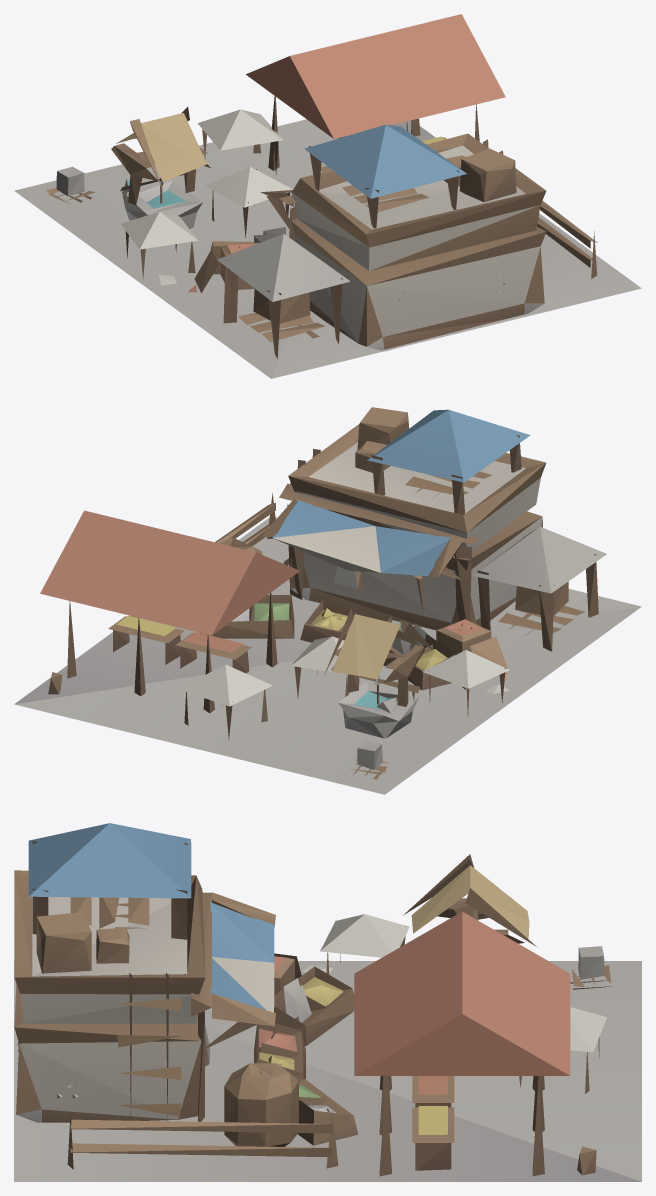
The model's file is market_small.l2.lite.glb.
3 views of the same model, one above another, from view 1: azimuth 30°, elevation 25°; view 2: azimuth 150°, elevation 25°; view 3: azimuth 270°, elevation 25° (orthographic). The views are drawn at different scales.
Parts seen in each view (by area): view 1: market_small; view 2: market_small; view 3: market_small.
Part boxes in pixels (x1,y1,x2,y2): market_small: (14,14,641,378); market_small: (14,407,641,794); market_small: (14,823,641,1181).
Bounding box in the file's own units: 5.01 × 2.44 × 5.96.
